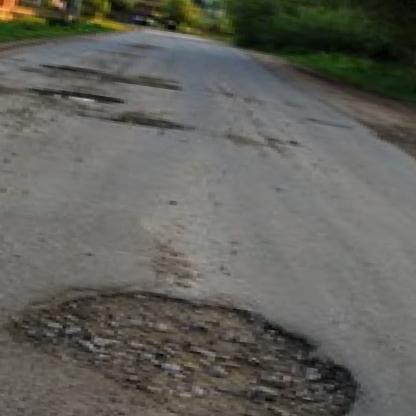pothole: (8, 273, 374, 416), (35, 87, 128, 109), (118, 113, 196, 135), (35, 60, 95, 77)
